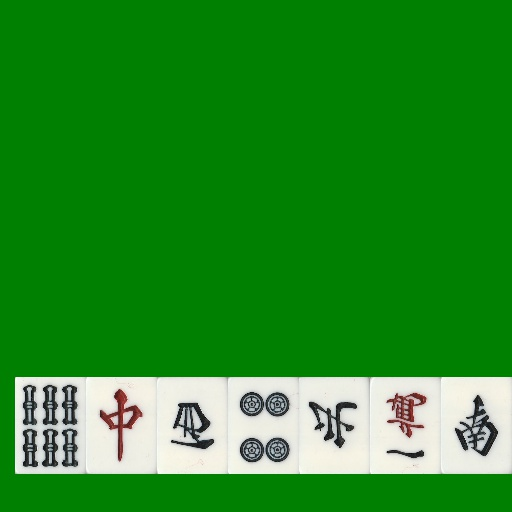1m: (370, 377, 441, 474)
4p: (228, 377, 299, 474)
6s: (15, 377, 86, 474)
north: (299, 377, 370, 474)
south: (441, 377, 512, 474)
tyun: (86, 377, 157, 474)
west: (157, 377, 228, 474)
